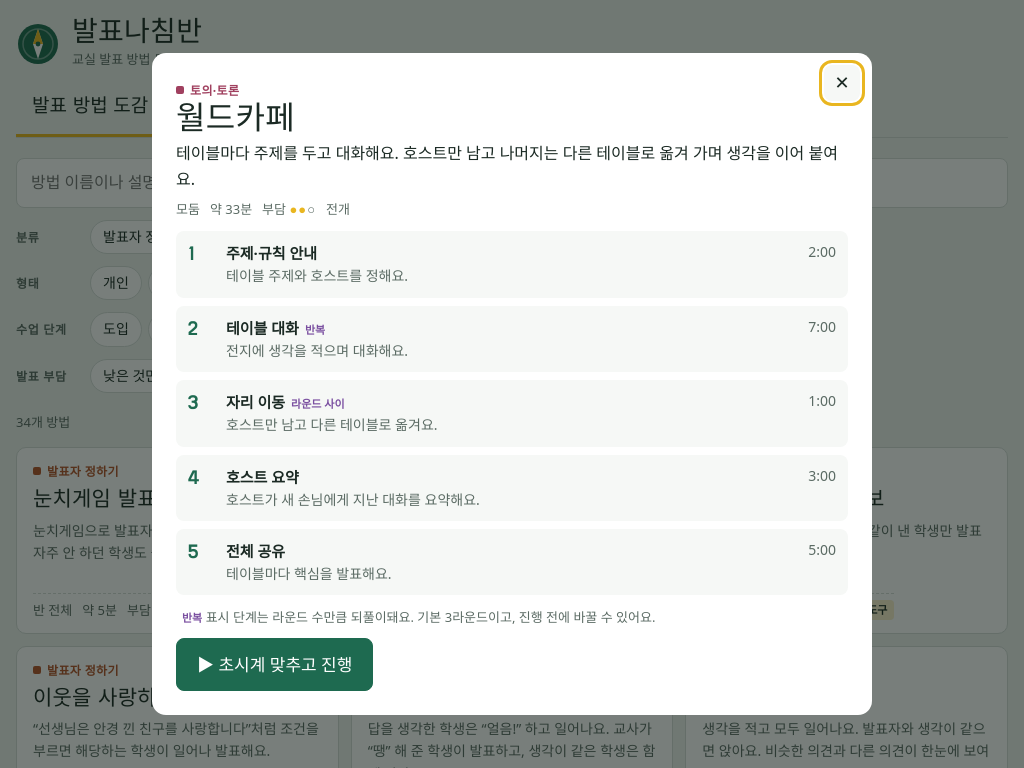
Test: 초시계 설정 › 이름 없이 저장하면 방법 이름과 라운드로 이름을 붙인다
The width and height of the screenshot is (1024, 768).
Click the button "▶ 초시계 맞추고 진행": x=275, y=665 [176,638,373,691]
(page scrolled)
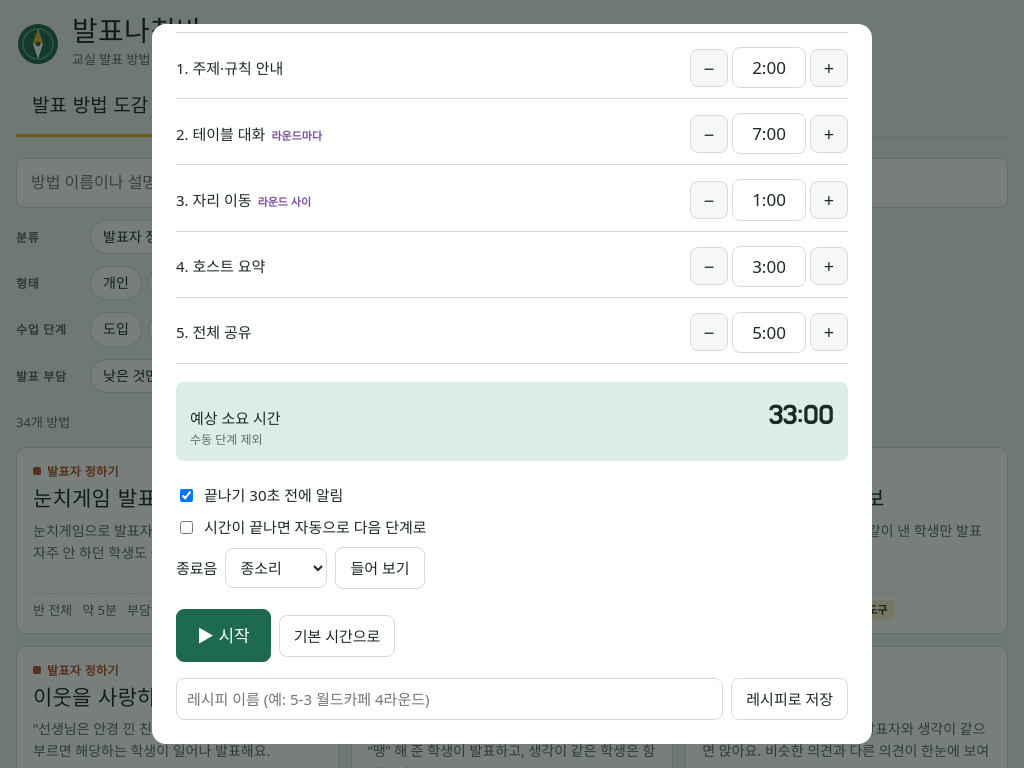
Click the button "레시피로 저장": x=790, y=699 [731,678,848,720]
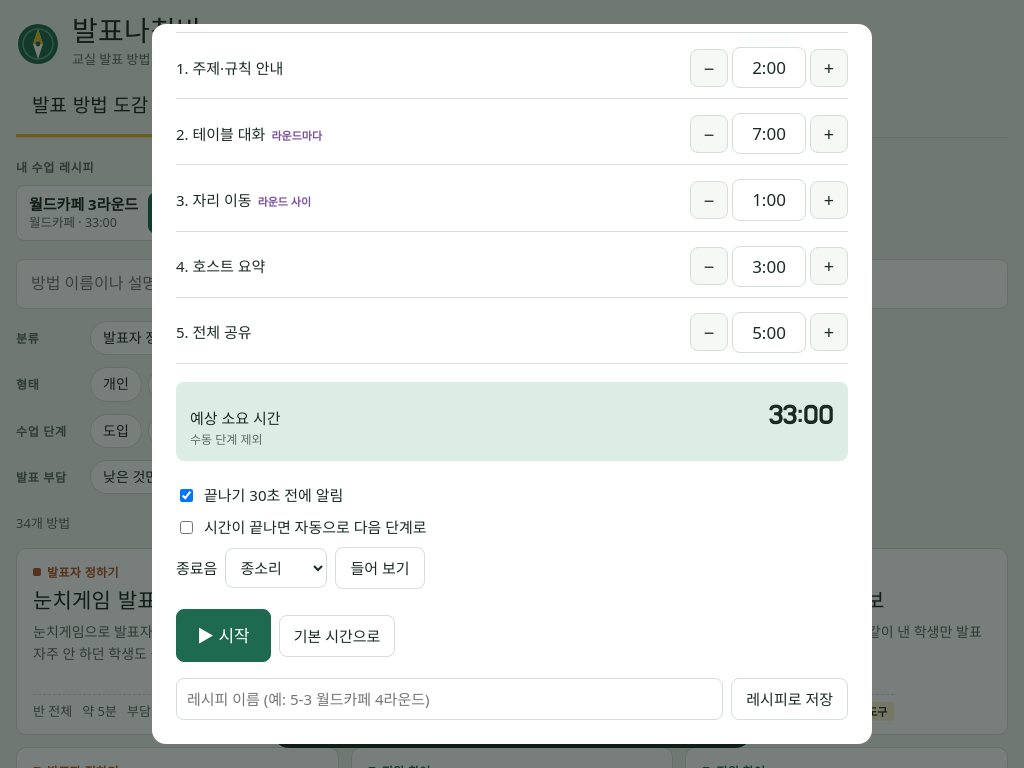
Expected: the text "월드카페 3라운드" is shown, [29,195,138,215]
